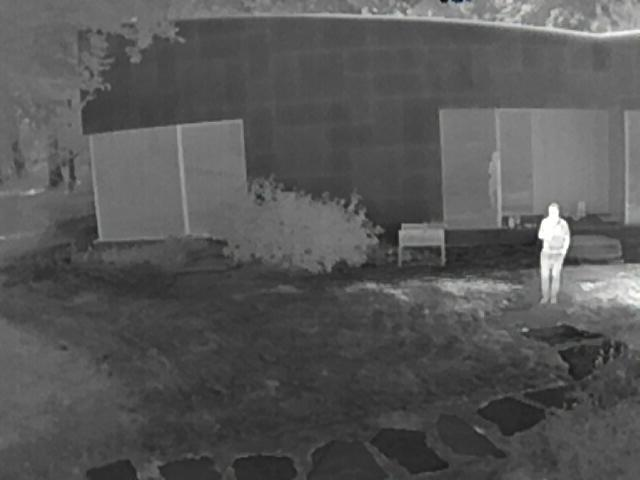person: (536, 203, 569, 307)
